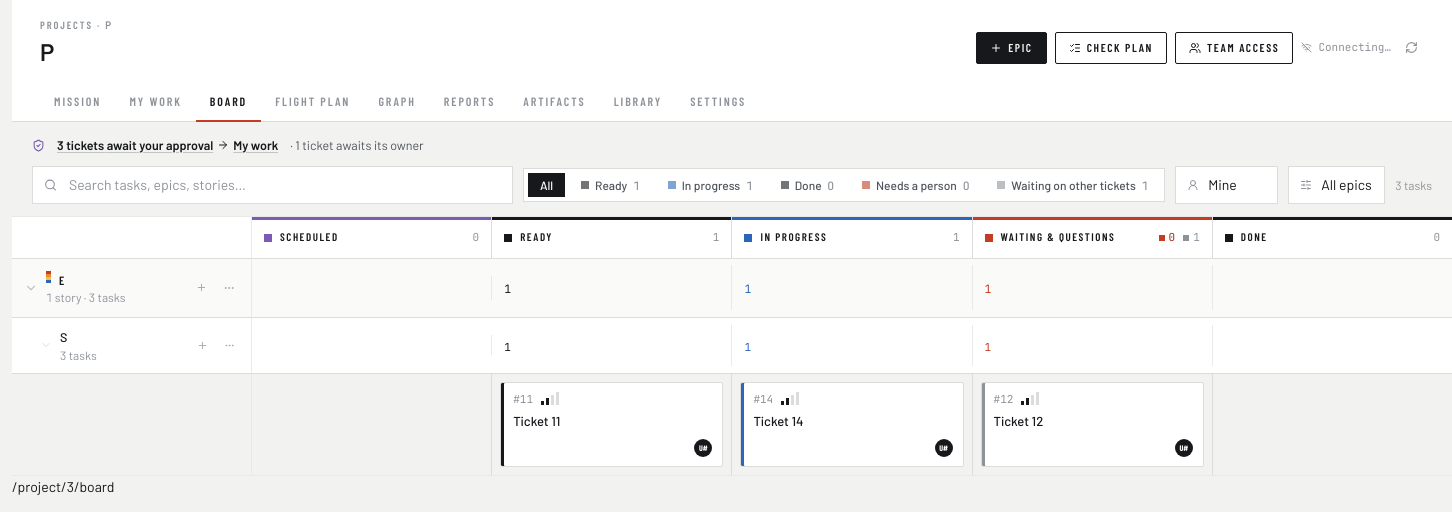
Test: Board filters in the URL › typing "north" writes q=north without a history entry per keystroke
expect the text "Ticket 11" is shown: met, box [513,413,560,429]
Step 1. Type "north" into the field with placeholder "Search tasks, epics, stories…" → (272, 185), box [32,166,513,204]
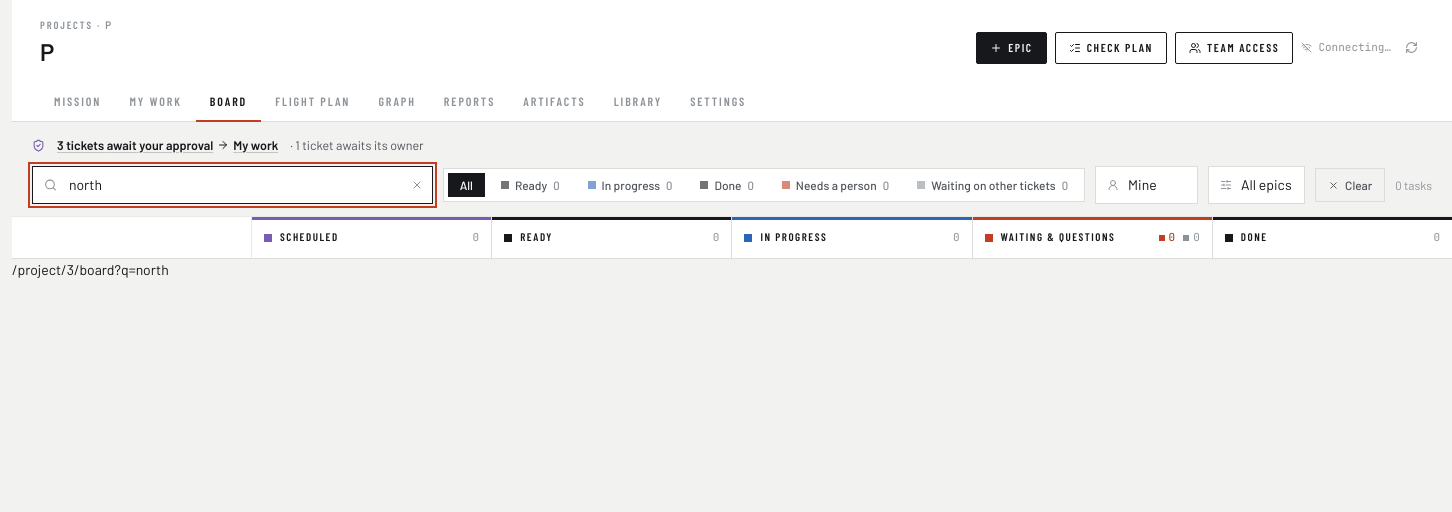
expect the text with test id "url" reads "/project/3/board?q=north": met, box [12,261,169,278]
